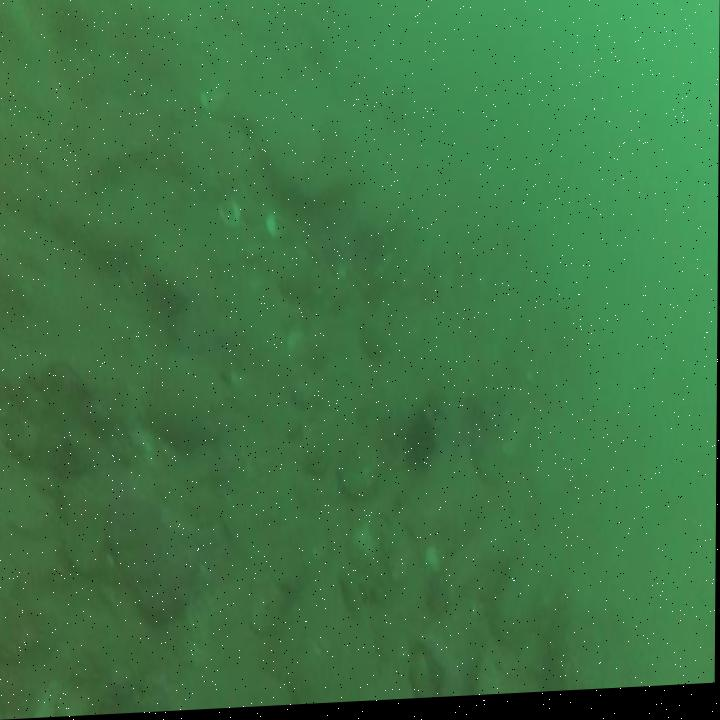echinus: (406, 418, 433, 480)
